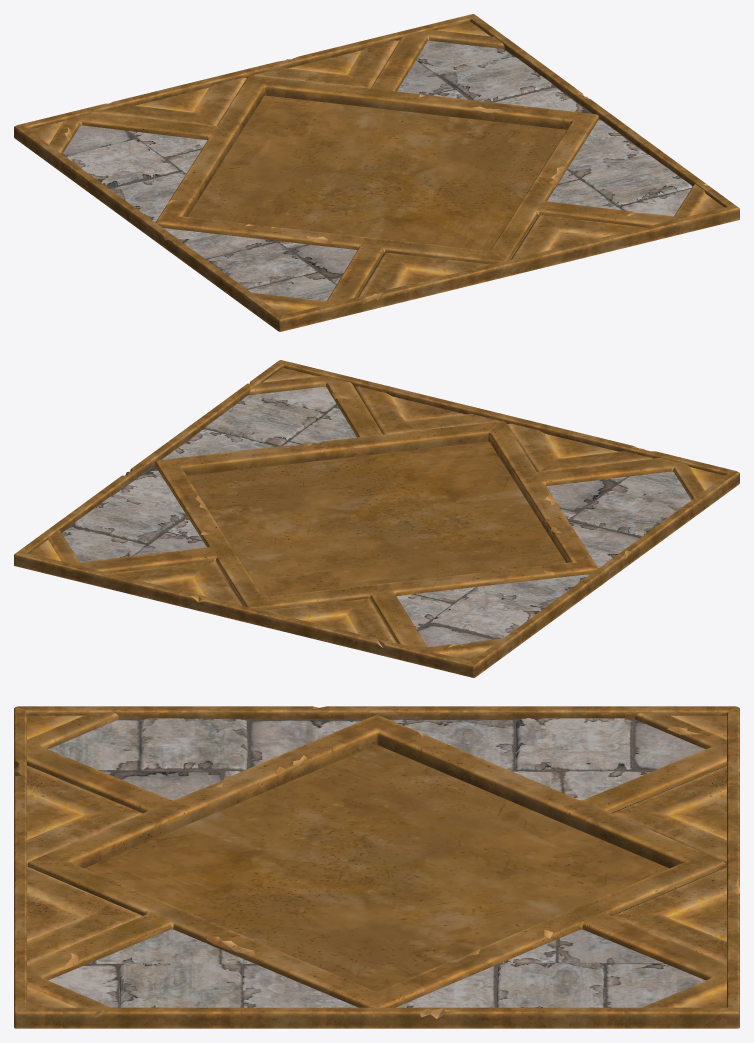
3 renders of one model, top to bottom at view 1: azimuth 30°, elevation 25°; view 2: azimuth 150°, elevation 25°; view 3: azimuth 270°, elevation 25°, orthographic. The views are drawn at different scales.
Parts seen in each view (by area): view 1: SM_Vault_Pressure_Plate_01_TrapBase_LOD0; view 2: SM_Vault_Pressure_Plate_01_TrapBase_LOD0; view 3: SM_Vault_Pressure_Plate_01_TrapBase_LOD0.
Part boxes in pixels (box(x1,y1,x2,y2)): SM_Vault_Pressure_Plate_01_TrapBase_LOD0: box(14, 14, 739, 331); SM_Vault_Pressure_Plate_01_TrapBase_LOD0: box(14, 360, 739, 677); SM_Vault_Pressure_Plate_01_TrapBase_LOD0: box(14, 706, 739, 1028).
Bounding box in the file's own units: 4 × 0.1001 × 4.
3 materials, 3 textured.
